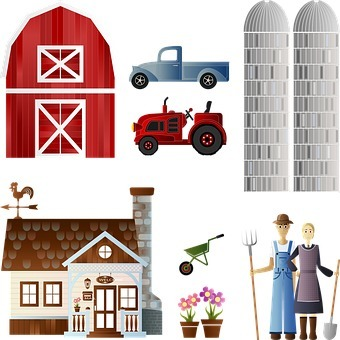car: (131, 95, 228, 156), (127, 44, 233, 92)
person: (286, 222, 340, 337), (251, 210, 298, 337)
pottedplant: (197, 285, 227, 337), (176, 292, 201, 339), (73, 296, 81, 312)
